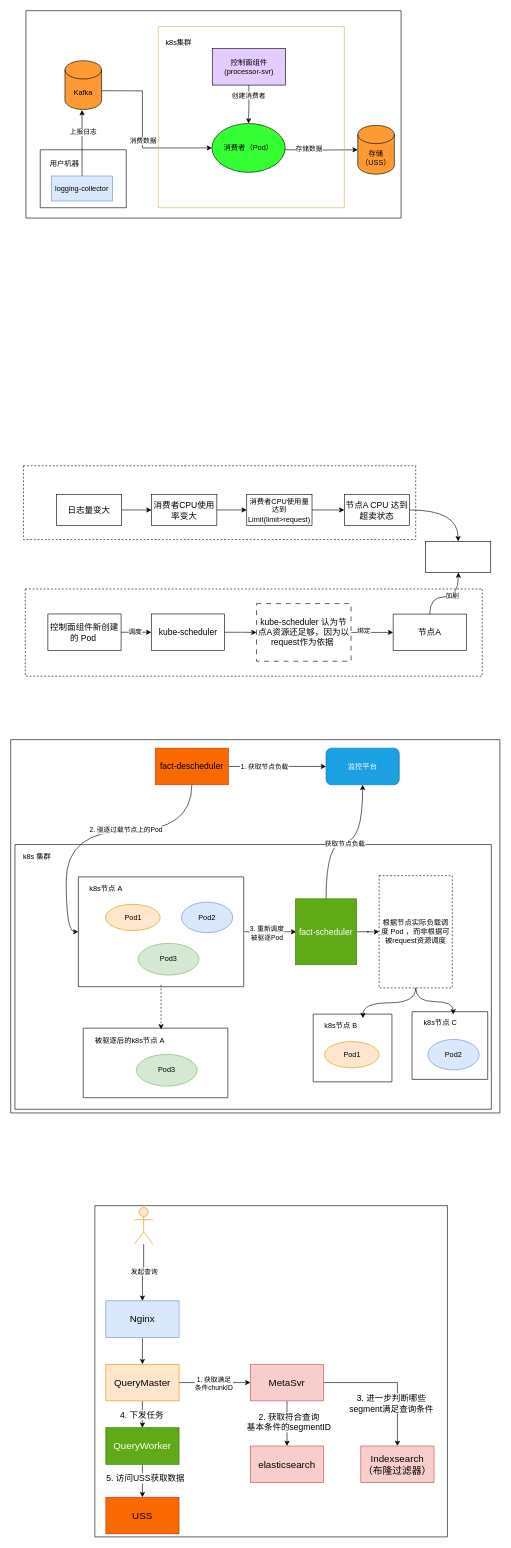
Some shapes in this 511 by 1548 pixel diagram are drawn without their labels. The shapes that lost their labels are listed below. From the top down, each one's box as (x1, y1, x2, y2) in pixels, then its label:
(25, 10, 401, 218): 日志上报原理
(23, 465, 416, 540): 消费者 Pod 行为
(425, 541, 491, 572): 节点A CPU 过载
(25, 588, 482, 676): kube-scheduler调度行为
(10, 739, 500, 1113): 优化原理图
(94, 1205, 447, 1537): 日志查询原理
